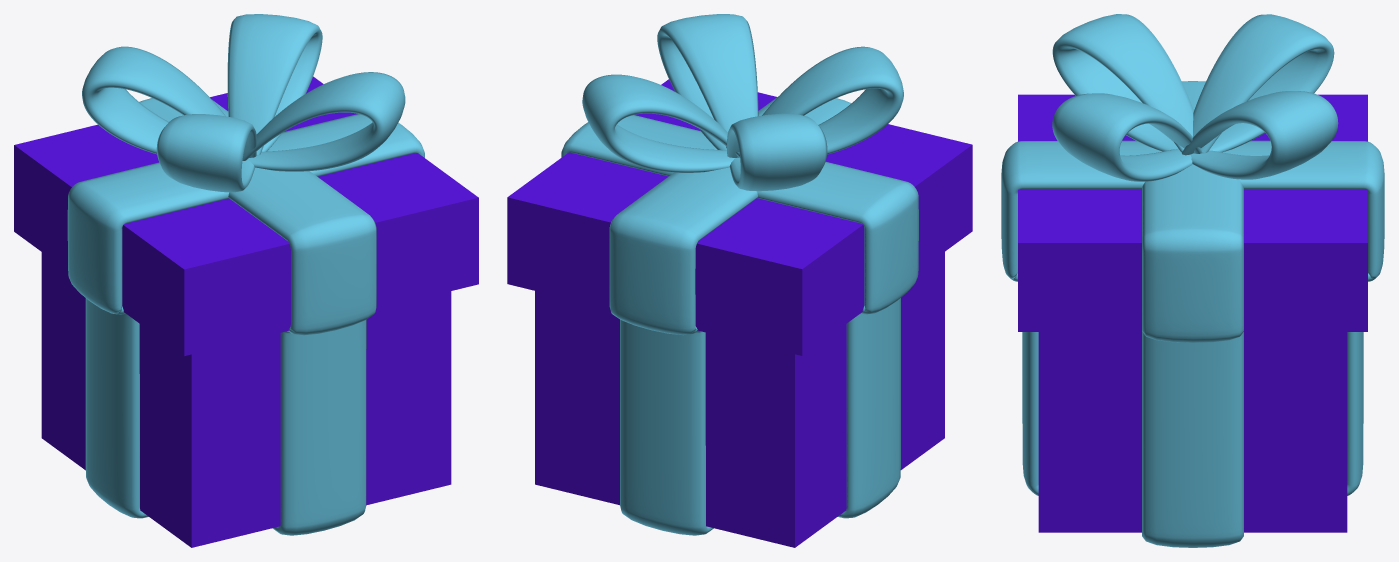
File: Gift_1.fbx
3 views of the same model, side by side, from view 1: azimuth 30°, elevation 25°; view 2: azimuth 150°, elevation 25°; view 3: azimuth 270°, elevation 25° (orthographic). The views are drawn at different scales.
Parts seen in each view (by area): view 1: Cube, Cube.001, NurbsPath.003; view 2: Cube, Cube.001, NurbsPath.003; view 3: Cube, Cube.001, NurbsPath.003.
Boxes of the visible parts, <box> form: Cube: <box>14,76,478,547</box>; Cube.001: <box>67,98,424,535</box>; NurbsPath.003: <box>82,14,405,192</box>; Cube: <box>507,79,972,547</box>; Cube.001: <box>561,96,918,535</box>; NurbsPath.003: <box>582,14,903,191</box>; Cube: <box>1018,94,1367,532</box>; Cube.001: <box>1001,81,1384,547</box>; NurbsPath.003: <box>1052,14,1338,181</box>.
Bounding box in the file's own units: 248 × 299 × 248.
